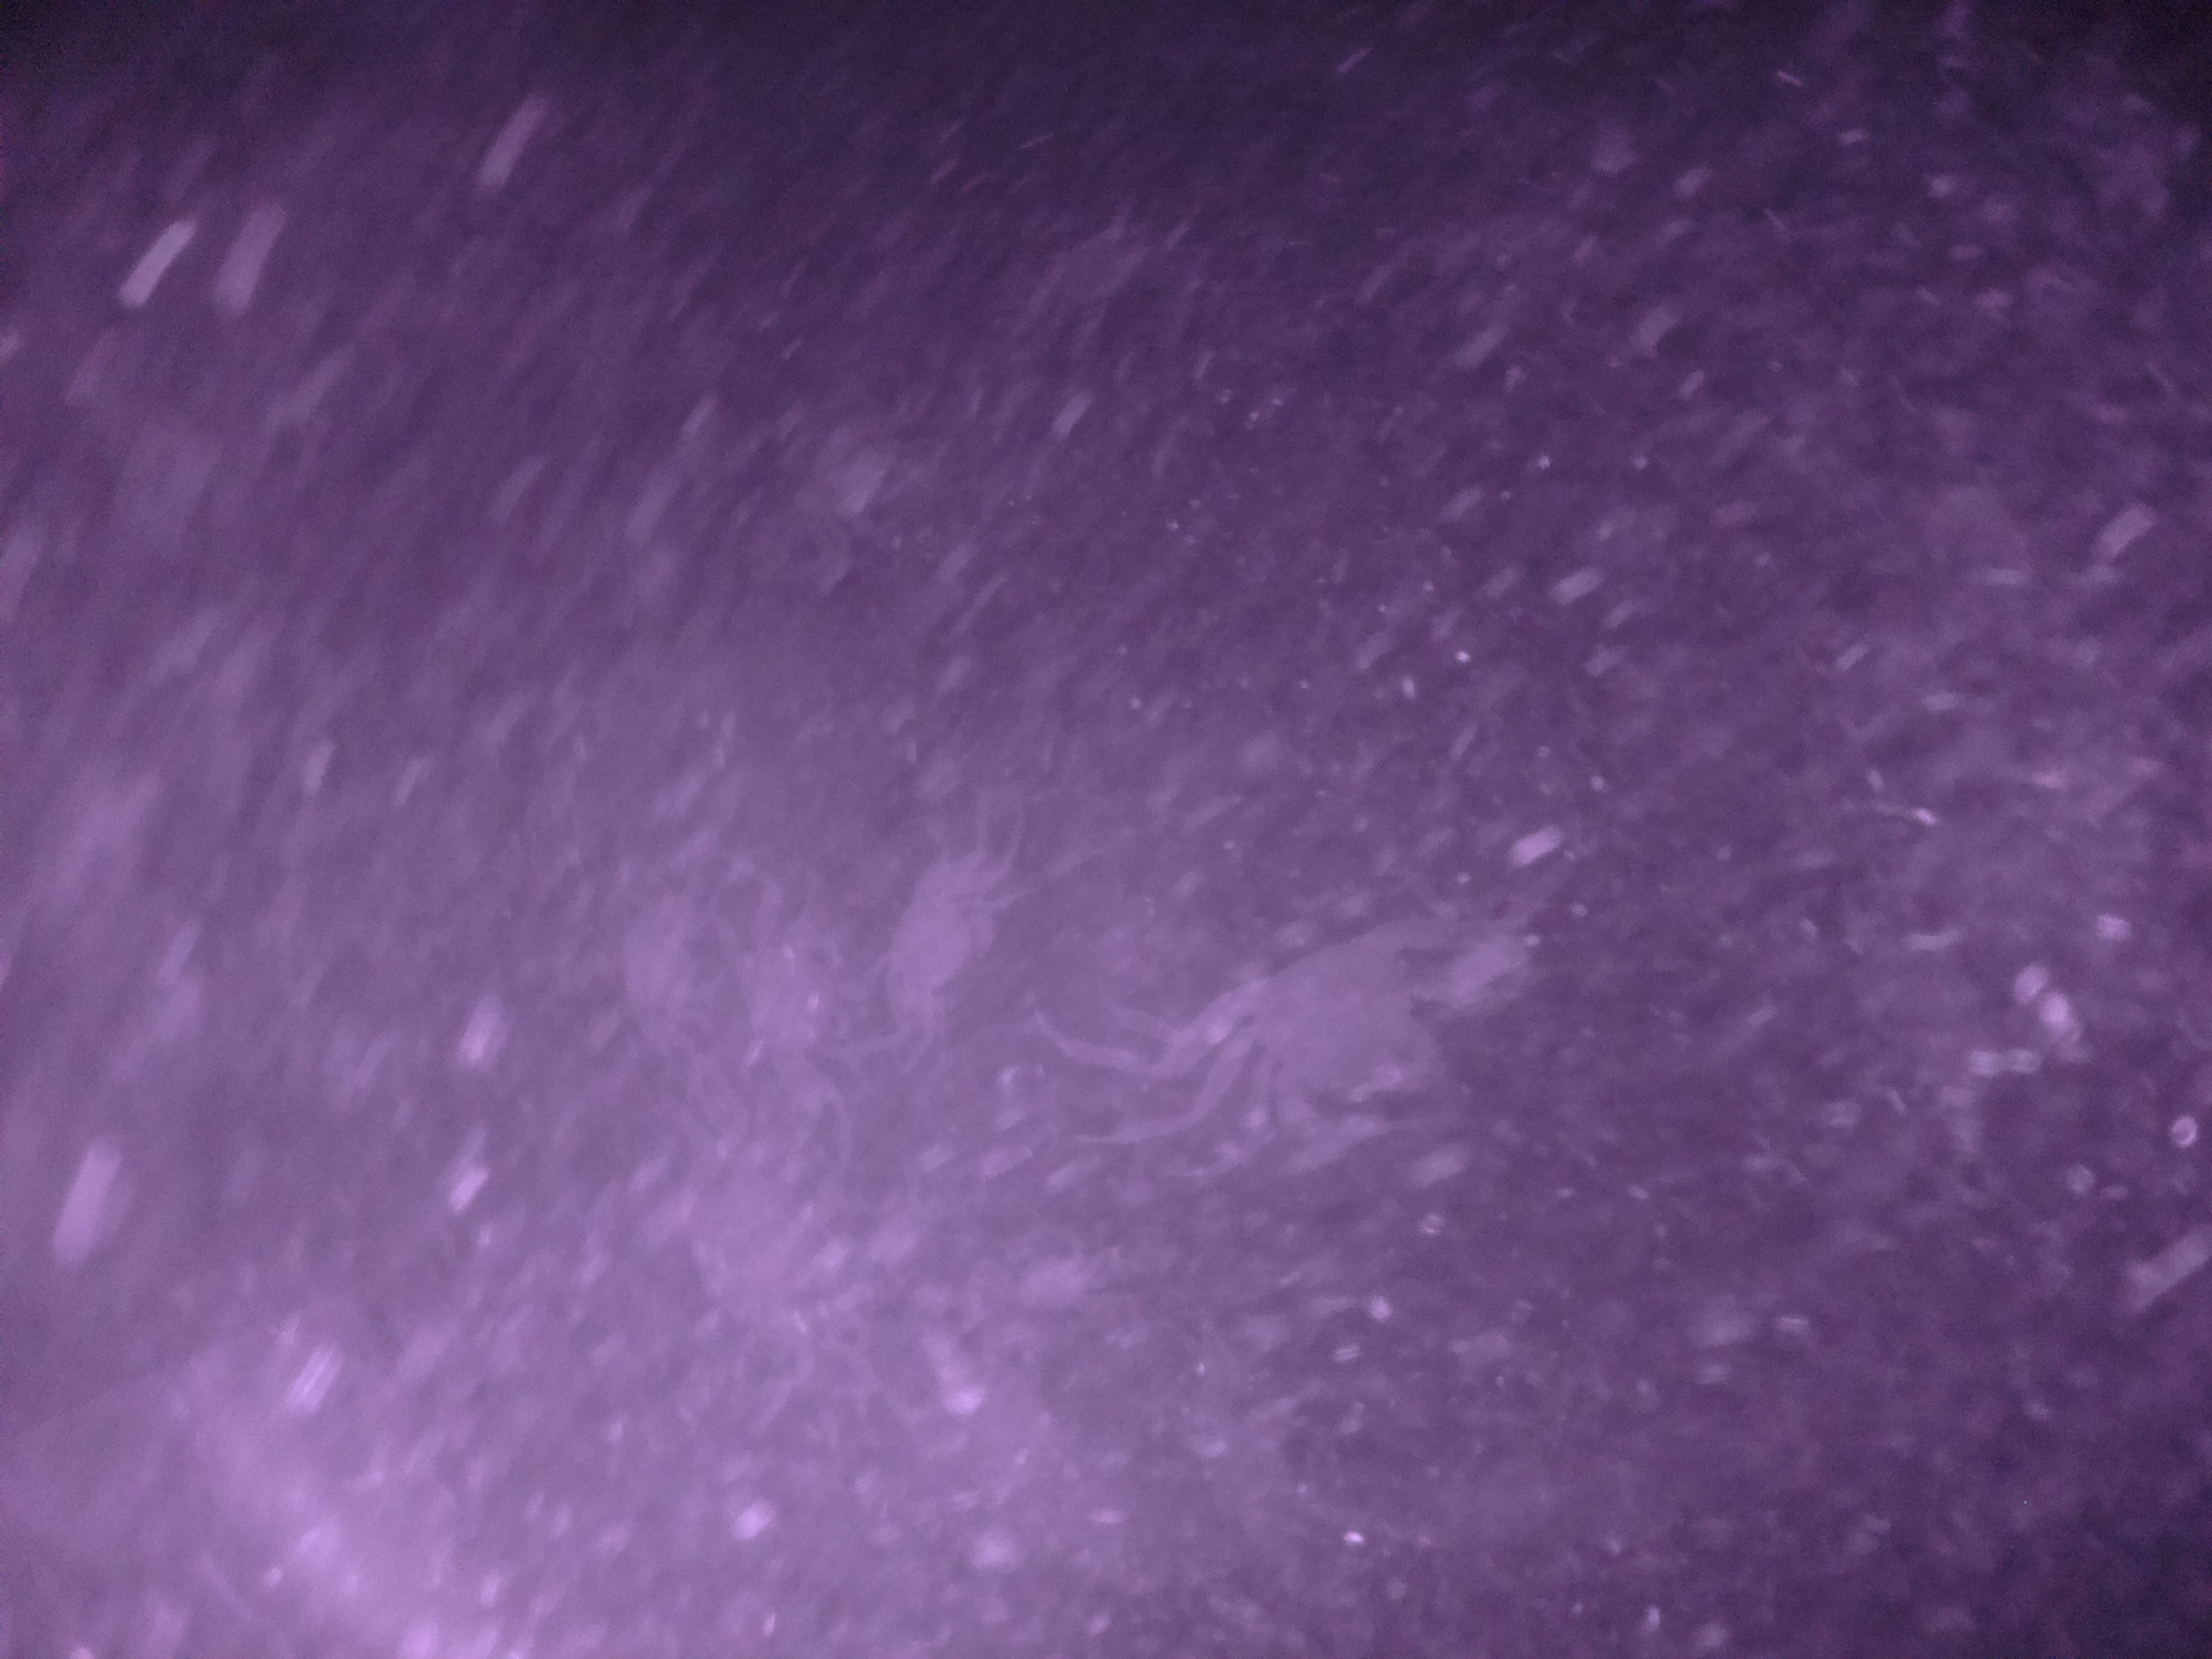Crab: (1176, 884, 1501, 1168), (867, 833, 1012, 1046)
